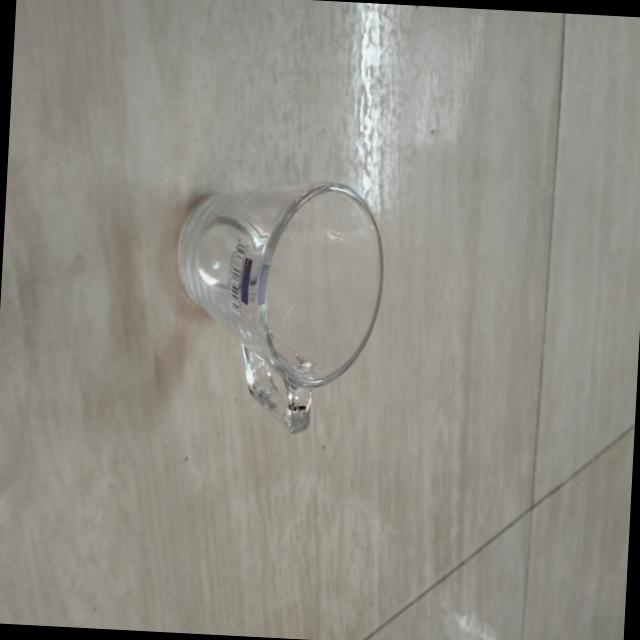glass-VX4N: (168, 162, 388, 436)
